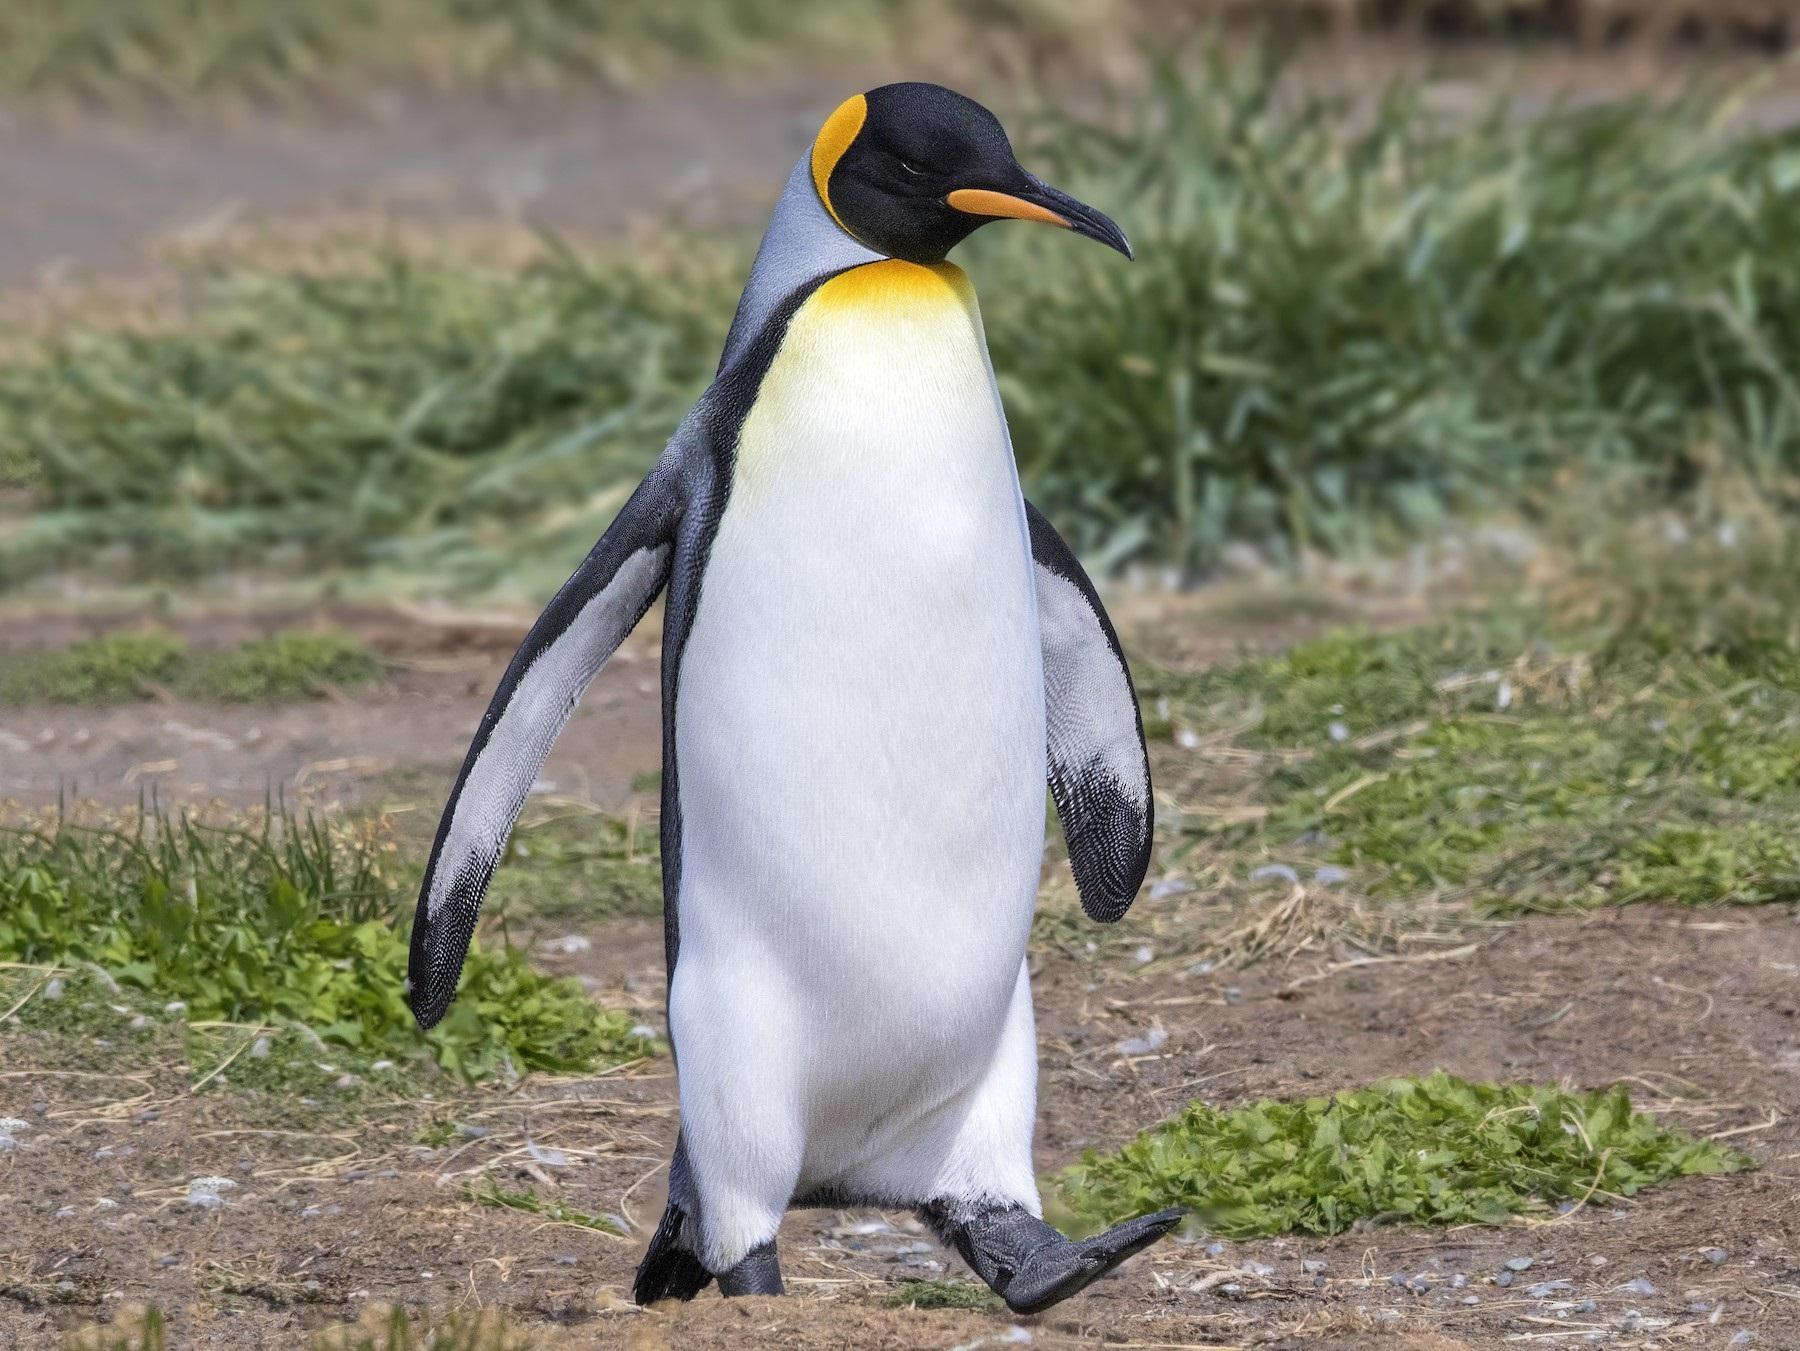king: (365, 64, 1227, 1341)
